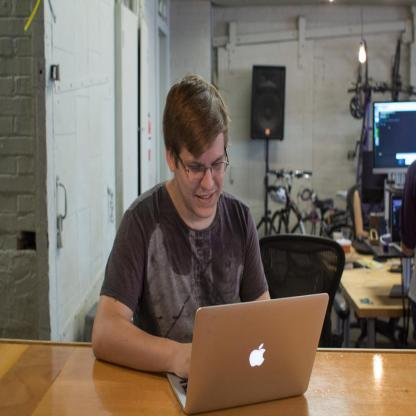board: (165, 292, 330, 413)
